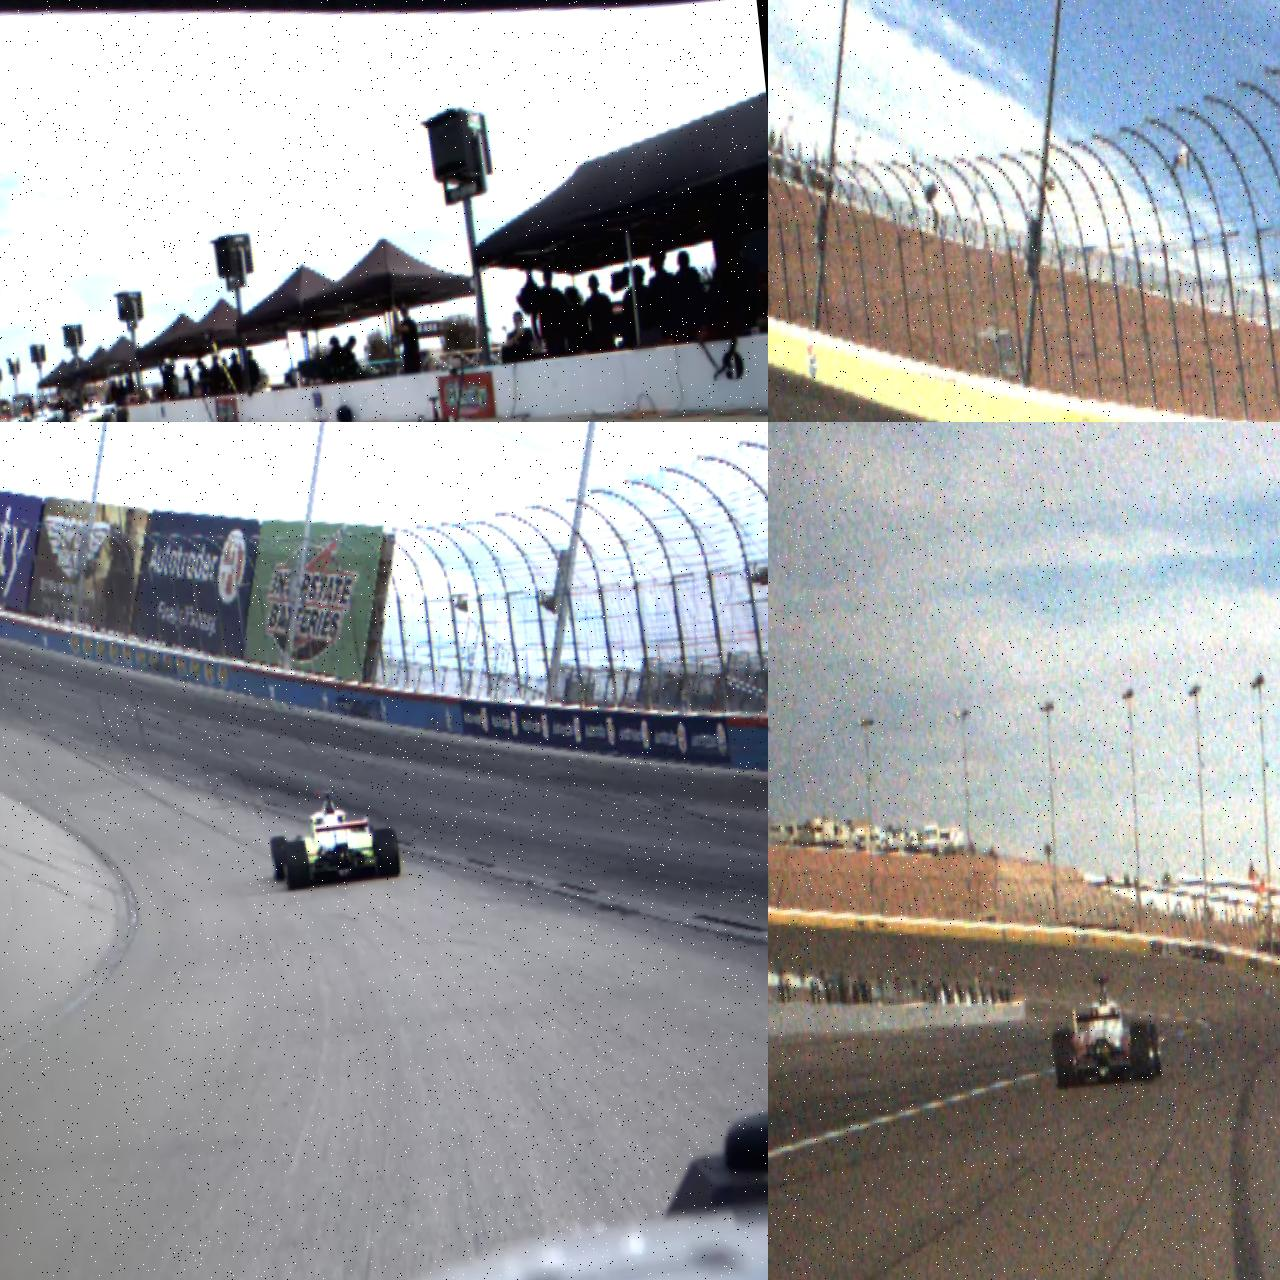AV: (265, 781, 402, 893), (1046, 971, 1164, 1091), (46, 389, 131, 422), (11, 402, 72, 422)
Wheel: (1050, 1028, 1078, 1090), (282, 840, 313, 891), (1130, 1021, 1155, 1083), (374, 828, 402, 879), (270, 835, 291, 883), (1145, 1023, 1163, 1076), (117, 408, 130, 422), (102, 411, 115, 422)
